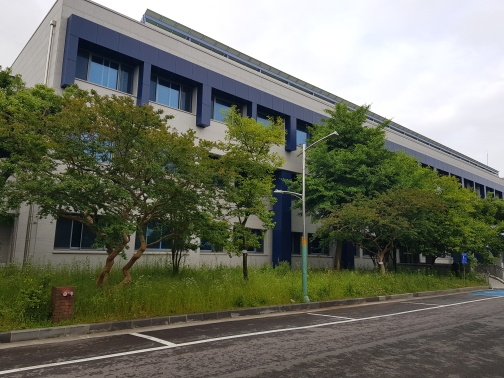College of Social Sciences: (14, 9, 503, 272), (132, 38, 301, 153)
